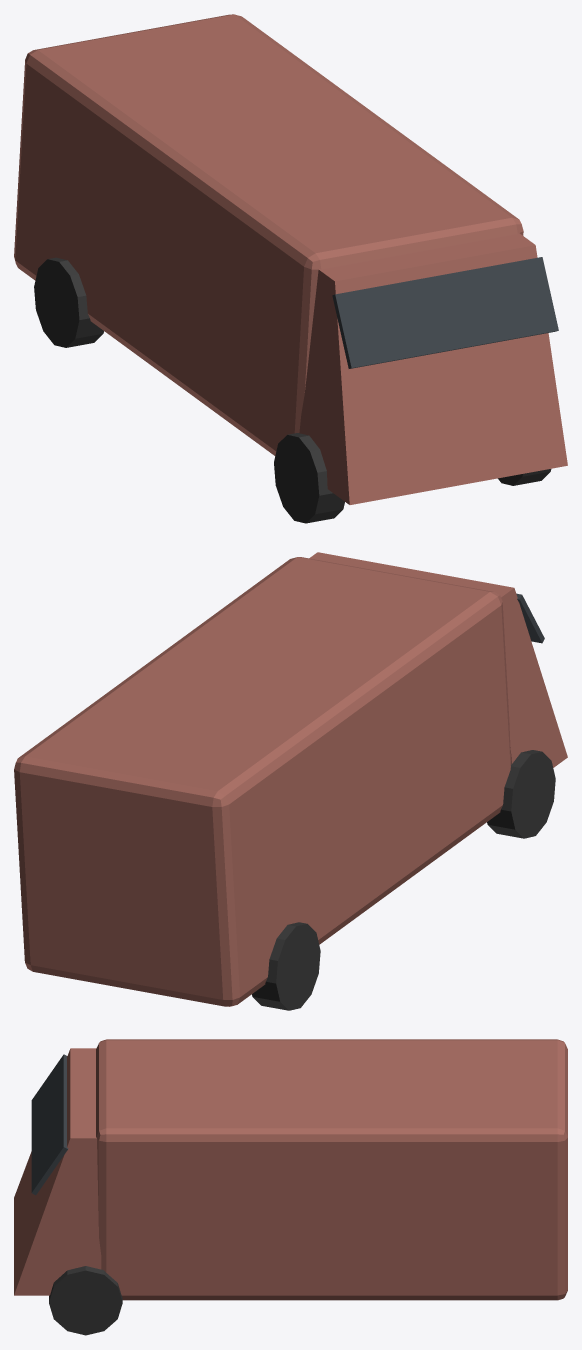
The model's file is van_r1.glb.
3 views of the same model, one above another, from view 1: azimuth 30°, elevation 25°; view 2: azimuth 150°, elevation 25°; view 3: azimuth 270°, elevation 25° (orthographic). The views are drawn at different scales.
Visible parts, largest first — view 1: van_r1; view 2: van_r1; view 3: van_r1.
Part boxes in pixels (box(x1,y1,x2,y2)): van_r1: box(14, 14, 567, 523); van_r1: box(14, 552, 567, 1010); van_r1: box(14, 1039, 567, 1335).
Size of what is drawn, in the model's own units: 2.2 by 2.31 by 5.4.
